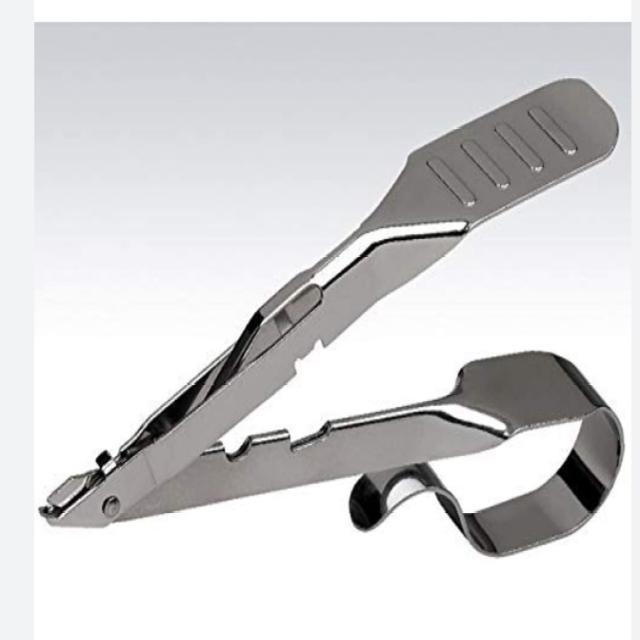Stapler Remover: (38, 70, 624, 566)
